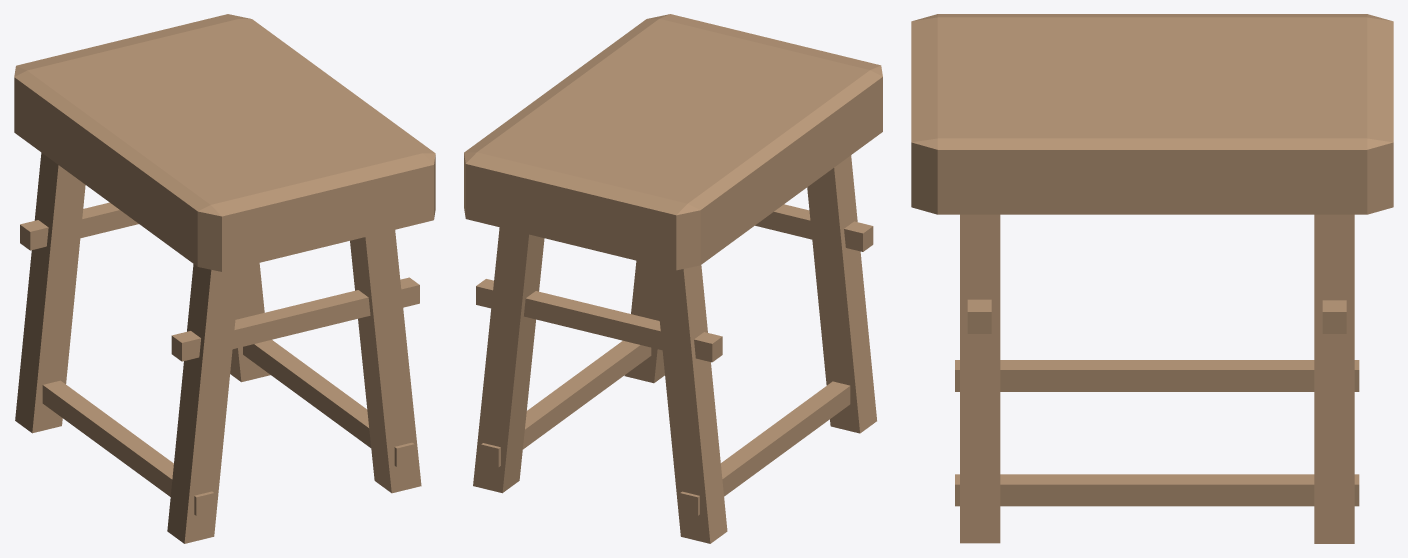
File: Chair.fbx
3 views of the same model, side by side, from view 1: azimuth 30°, elevation 25°; view 2: azimuth 150°, elevation 25°; view 3: azimuth 270°, elevation 25° (orthographic). The views are drawn at different scales.
Visible parts, largest first — view 1: Cube; view 2: Cube; view 3: Cube.
Boxes of the visible parts, left/top/right/bottom form: Cube: left=14, top=14, right=435, bottom=543; Cube: left=464, top=14, right=882, bottom=543; Cube: left=911, top=14, right=1393, bottom=543.
Bounding box in the file's own units: 40.77 × 54.94 × 60.
